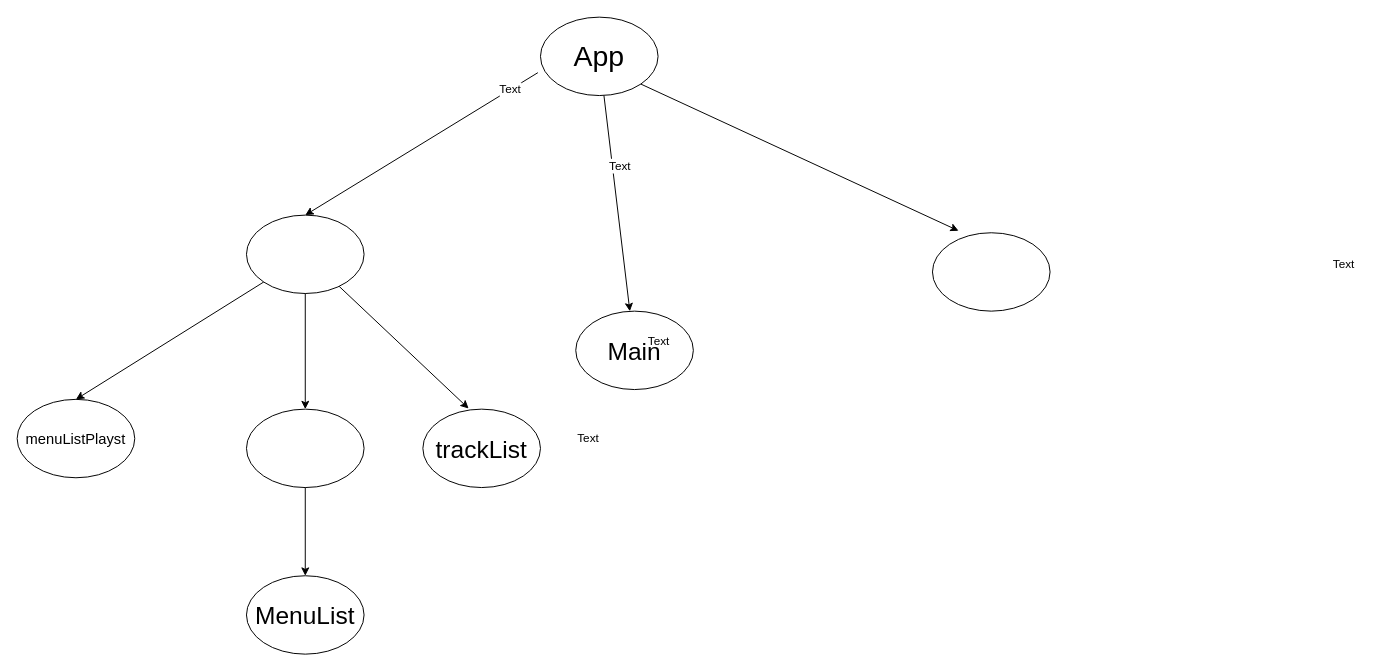
Image size: 1388x671. Some labels were removed from this diagram. The centre of each missing label's shape, as x and y in pixels:
"left" belongs at [304,254].
"Menu" belongs at [304,448].
"right" belongs at [990,271].
